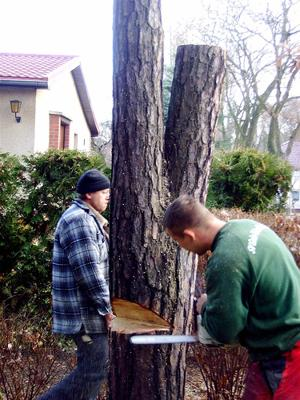person: (162, 193, 300, 400)
